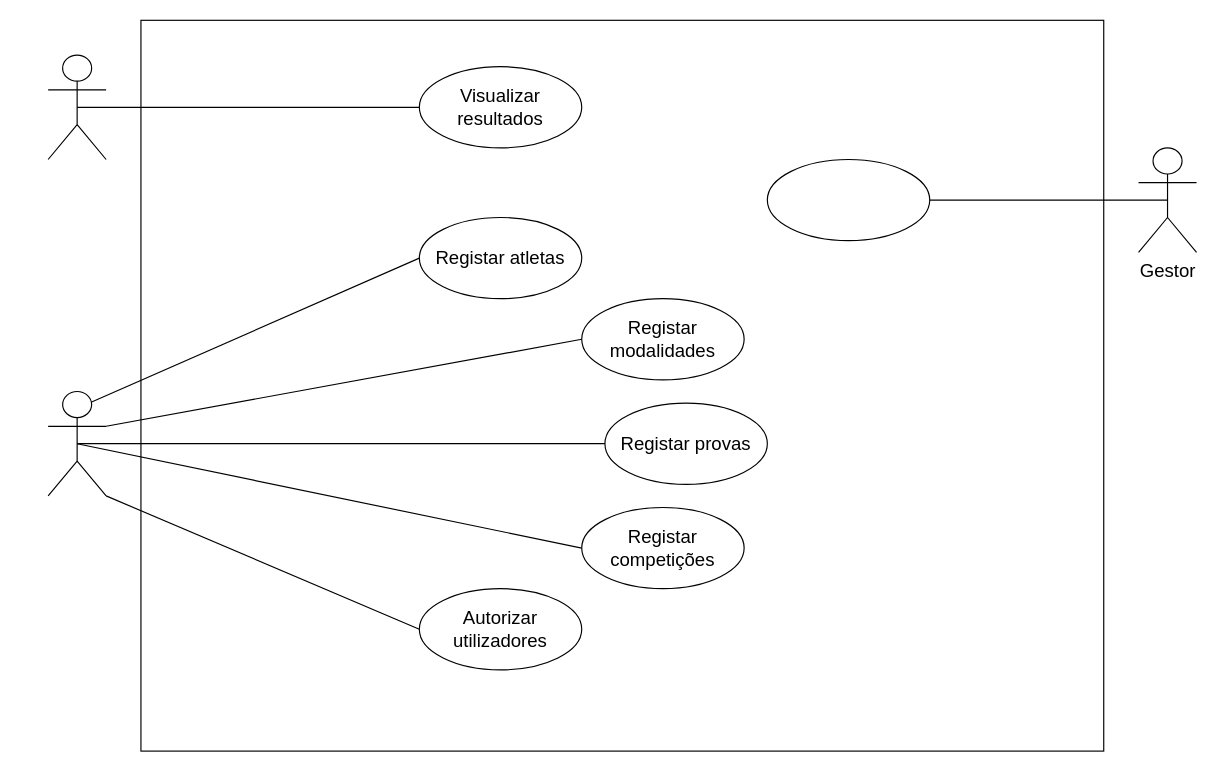
This 1217x771 diagram has some shape labels left out. Here are the shapes that lost their labels. From the top down, the centre of each, then its label:
[76,107]: Utilizador comum
[848,199]: Introduzir resultados
[76,443]: Administrador
